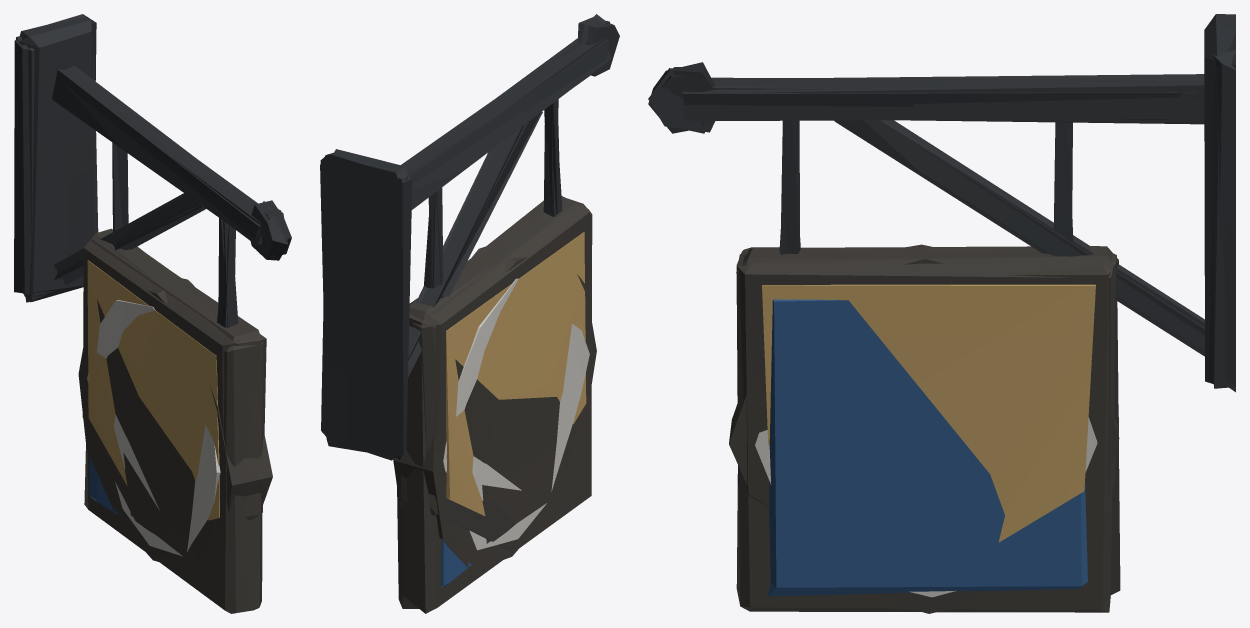
Rendered from sign.hanging.glb.
The picture shows the model from 3 angles, left to right: view 1: azimuth 30°, elevation 25°; view 2: azimuth 150°, elevation 25°; view 3: azimuth 270°, elevation 25°; orthographic projection. The views are drawn at different scales.
Parts seen in each view (by area): view 1: sign.hanging.v1.mesh, sign.hanging.v0.mesh, sign.hanging.v2.mesh; view 2: sign.hanging.v1.mesh, sign.hanging.v0.mesh, sign.hanging.v2.mesh; view 3: sign.hanging.v2.mesh, sign.hanging.v1.mesh, sign.hanging.v0.mesh.
Part boxes in pixels (x1,y1,x2,y2): sign.hanging.v1.mesh: [14, 14, 288, 555]; sign.hanging.v0.mesh: [19, 18, 287, 571]; sign.hanging.v2.mesh: [16, 33, 291, 613]; sign.hanging.v1.mesh: [320, 17, 619, 551]; sign.hanging.v0.mesh: [321, 20, 611, 570]; sign.hanging.v2.mesh: [320, 14, 609, 613]; sign.hanging.v2.mesh: [648, 52, 1235, 612]; sign.hanging.v1.mesh: [648, 31, 1235, 542]; sign.hanging.v0.mesh: [661, 14, 1235, 613].
Bounding box in the file's own units: 0.1322 × 0.739 × 0.6858.
